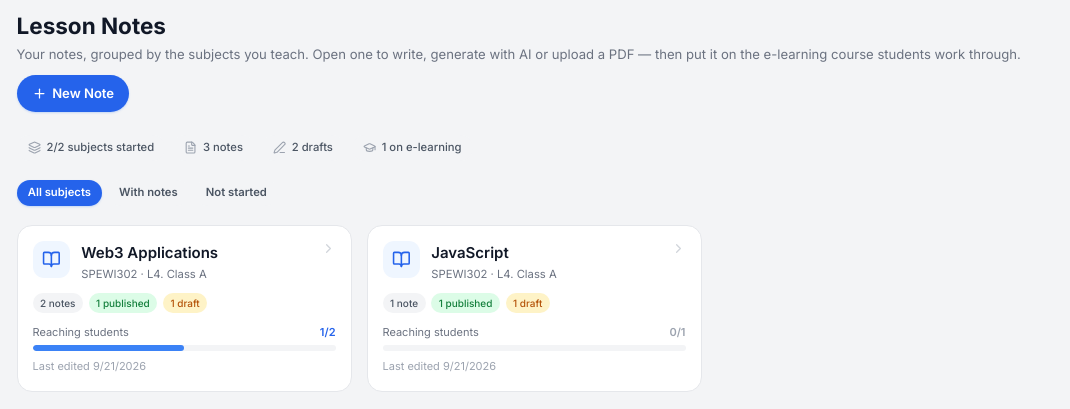
Test case: LessonNotesListPage — subject-first browsing and e-learning linkage › loads only the chosen subject's notes after selecting it
Click the heading "Web3 Applications".
click(150, 252)  # box [81,243,218,262]
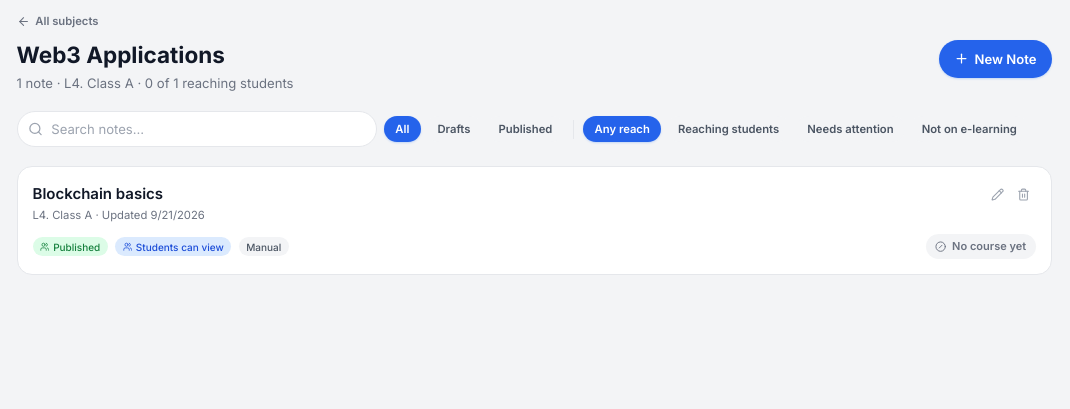
Check: the button "Blockchain basics" is shown, box [32,182,163,206]
